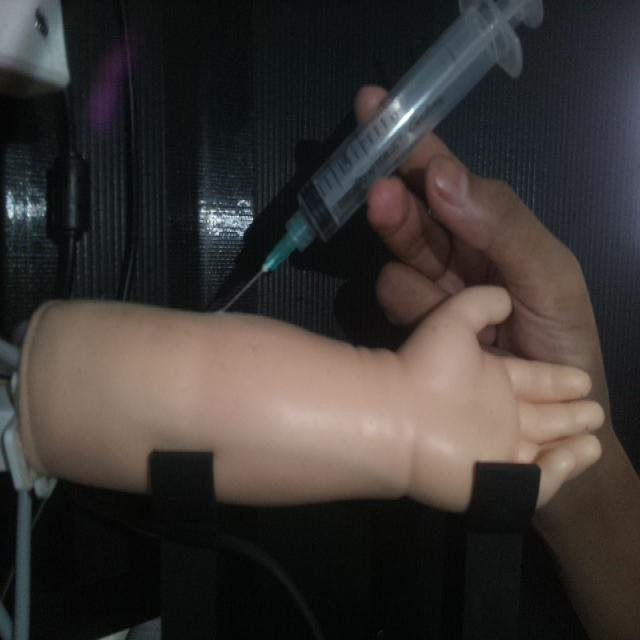Outside: (213, 0, 546, 315)
